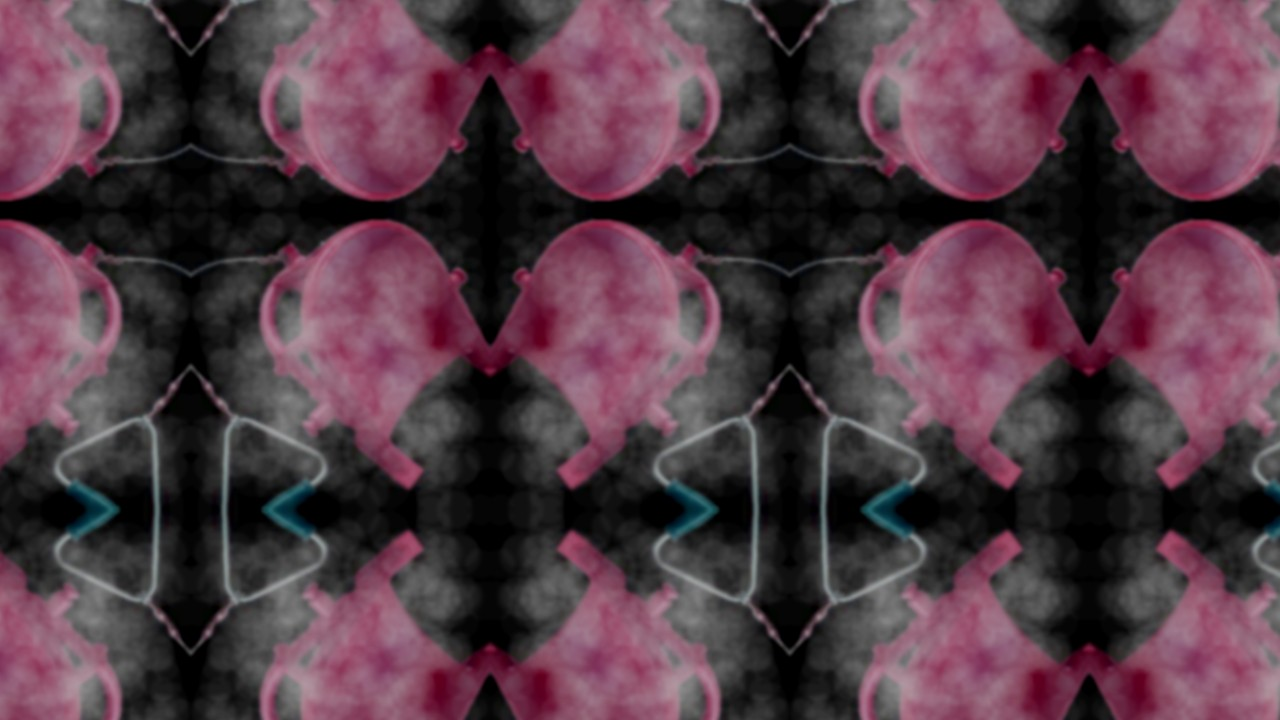chock: (255, 219, 490, 494), (490, 219, 725, 494), (855, 219, 1090, 494), (1090, 219, 1280, 494), (255, 0, 490, 201), (490, 0, 725, 201), (855, 0, 1090, 201), (255, 526, 490, 720), (490, 526, 725, 720), (855, 526, 1090, 720), (1090, 0, 1280, 201), (1090, 526, 1280, 720), (0, 219, 125, 494), (0, 0, 125, 201), (0, 526, 125, 720)
